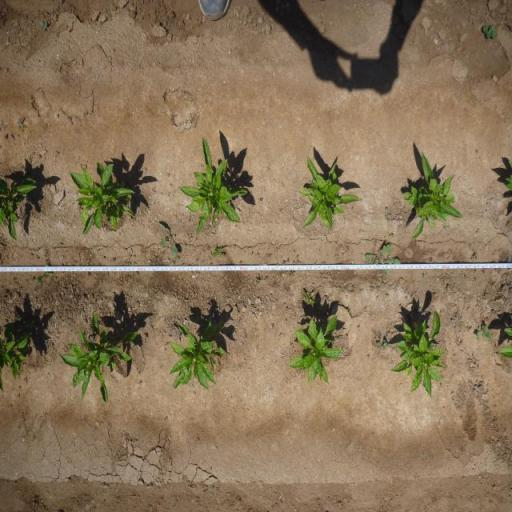plant: (56, 306, 142, 406), (176, 135, 253, 234), (401, 149, 465, 241), (68, 160, 138, 238), (391, 310, 447, 400), (299, 154, 361, 232), (168, 316, 228, 393), (288, 313, 344, 386), (0, 173, 38, 241), (0, 331, 30, 392)
weed: (364, 244, 388, 274), (157, 222, 178, 256), (479, 21, 501, 42), (34, 262, 50, 284), (301, 290, 317, 311), (387, 244, 401, 265), (474, 325, 492, 341), (211, 244, 227, 260), (16, 116, 28, 134), (38, 19, 51, 33), (383, 206, 392, 224), (122, 258, 137, 266), (382, 338, 390, 352), (375, 336, 382, 348), (470, 252, 478, 262), (347, 308, 353, 318), (265, 252, 272, 260), (27, 156, 34, 164), (428, 256, 434, 264), (289, 271, 295, 278), (281, 259, 286, 266), (442, 226, 448, 231), (296, 254, 299, 264), (84, 260, 90, 265), (45, 257, 50, 263), (188, 233, 192, 240), (321, 260, 326, 265), (422, 274, 426, 280), (286, 258, 290, 264), (256, 279, 260, 285), (174, 256, 180, 260), (271, 323, 274, 330), (390, 233, 395, 237), (366, 355, 370, 360), (358, 326, 360, 332)
